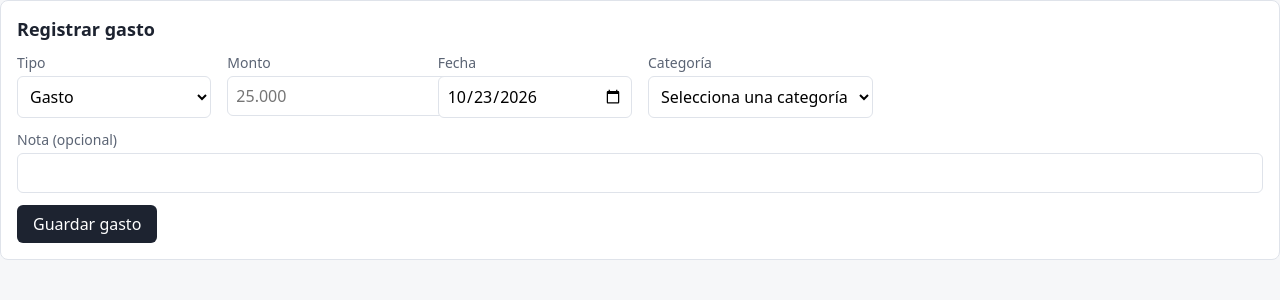
Test: TransactionForm · income (RDF-7) › still requires a category after switching type
The image size is (1280, 300).
Select "Ingreso" in the dropdown labelled "Tipo": (114, 97) [17, 76, 211, 118]
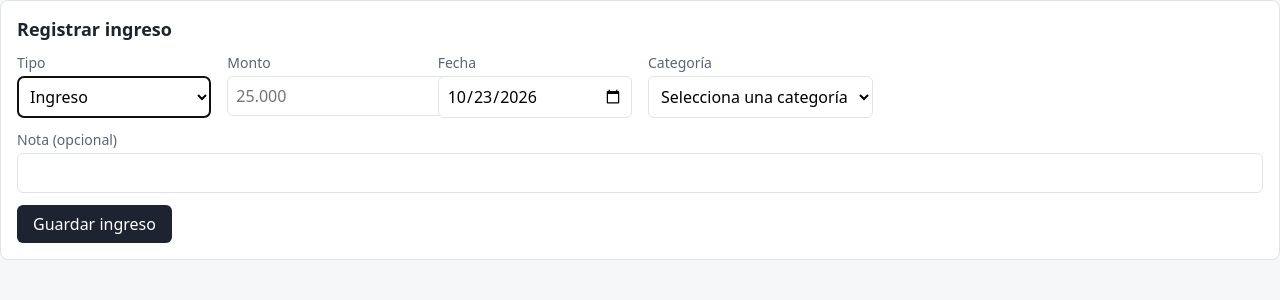
In the field labelled "Monto": (352, 96) [227, 76, 476, 116], type "2.000.000"
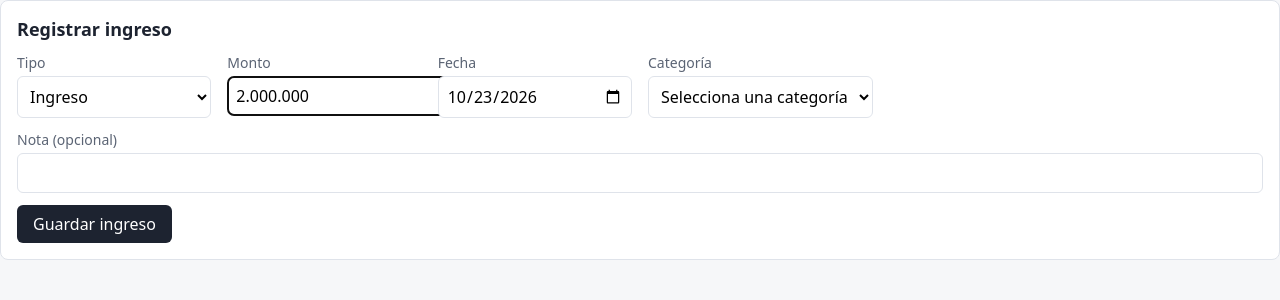
Click the button "Guardar ingreso": (94, 224) [17, 205, 172, 243]
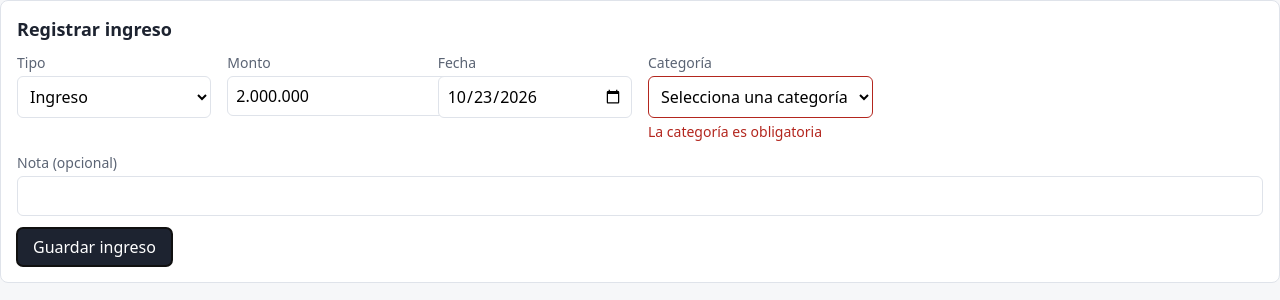
Expected: the text "La categoría es obligatoria" is shown, [648, 122, 822, 141]
